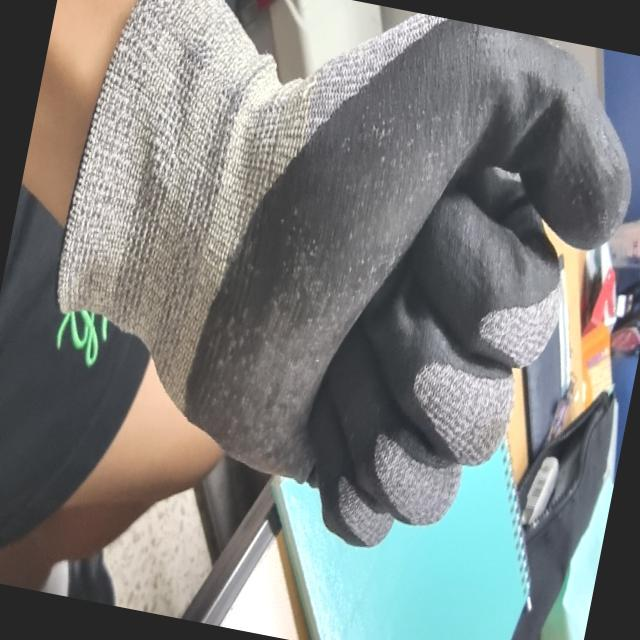Gloves: (88, 0, 631, 522)
